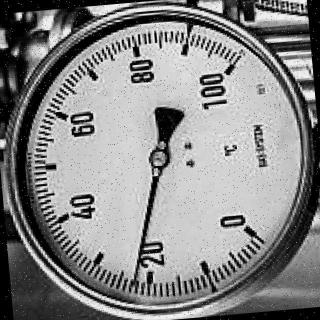gauge: (0, 4, 320, 320), (195, 51, 255, 113), (214, 201, 270, 249), (144, 146, 173, 170), (127, 276, 141, 297)
